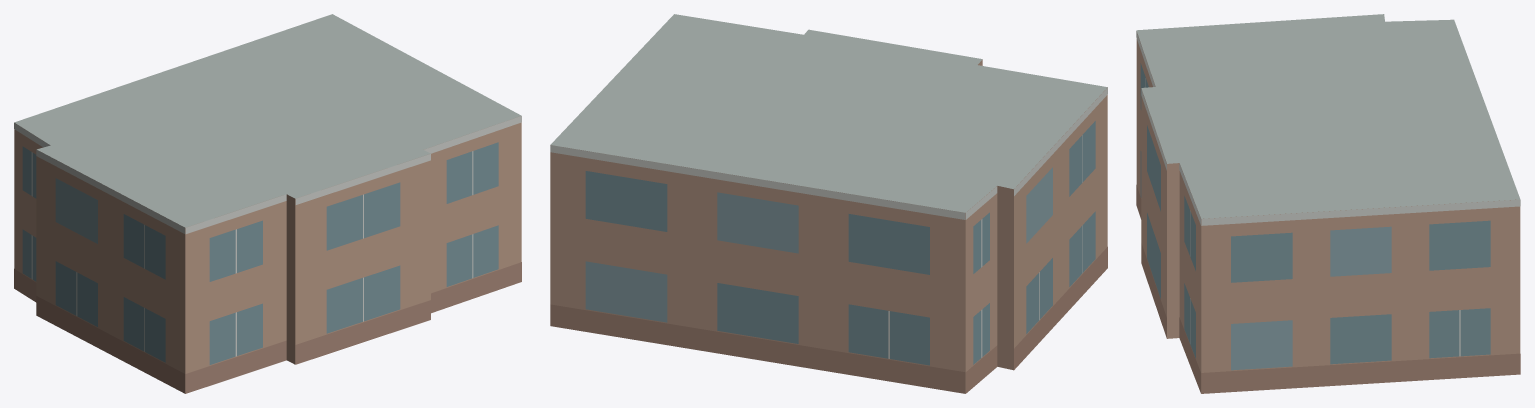
File: survey-upis-32541574.glb
3 renders of one model, left to right at view 1: azimuth 30°, elevation 25°; view 2: azimuth 150°, elevation 25°; view 3: azimuth 270°, elevation 25°, orthographic. The views are drawn at different scales.
Parts seen in each view (by area): view 1: survey-upis-32541574.tmp; view 2: survey-upis-32541574.tmp; view 3: survey-upis-32541574.tmp.
Boxes of the visible parts, x1,y1,x2,y2 form: survey-upis-32541574.tmp: [14, 14, 521, 393]; survey-upis-32541574.tmp: [550, 14, 1107, 393]; survey-upis-32541574.tmp: [1136, 14, 1520, 393].
Size of the model in its own units: 15.33 by 6.1 by 12.14.
